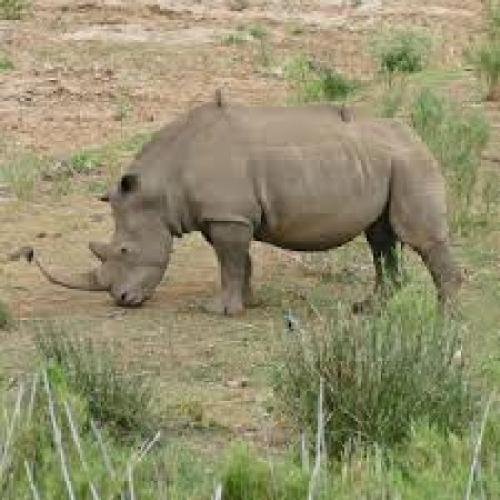rhino-endangered: (33, 100, 463, 318)
